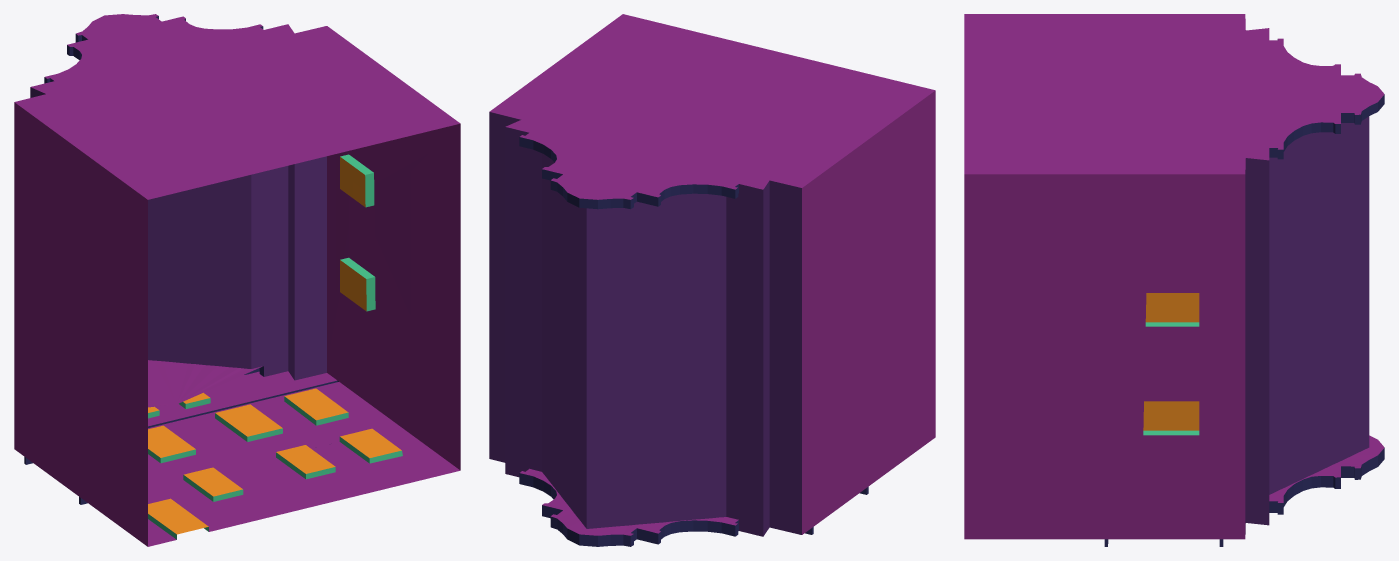
The model's file is Dom Gąski Tier 3.fbx.
3 renders of one model, left to right at view 1: azimuth 30°, elevation 25°; view 2: azimuth 150°, elevation 25°; view 3: azimuth 270°, elevation 25°, orthographic. The views are drawn at different scales.
Parts seen in each view (by area): view 1: dom_gąski_w_radomiu_2; view 2: dom_gąski_w_radomiu_2; view 3: dom_gąski_w_radomiu_2.
Boxes of the visible parts, bbox=[...] form: dom_gąski_w_radomiu_2: bbox=[14, 14, 460, 546]; dom_gąski_w_radomiu_2: bbox=[489, 14, 935, 546]; dom_gąski_w_radomiu_2: bbox=[964, 14, 1384, 546].
Size of the model in its own units: 2.94 by 3.19 by 3.26.
